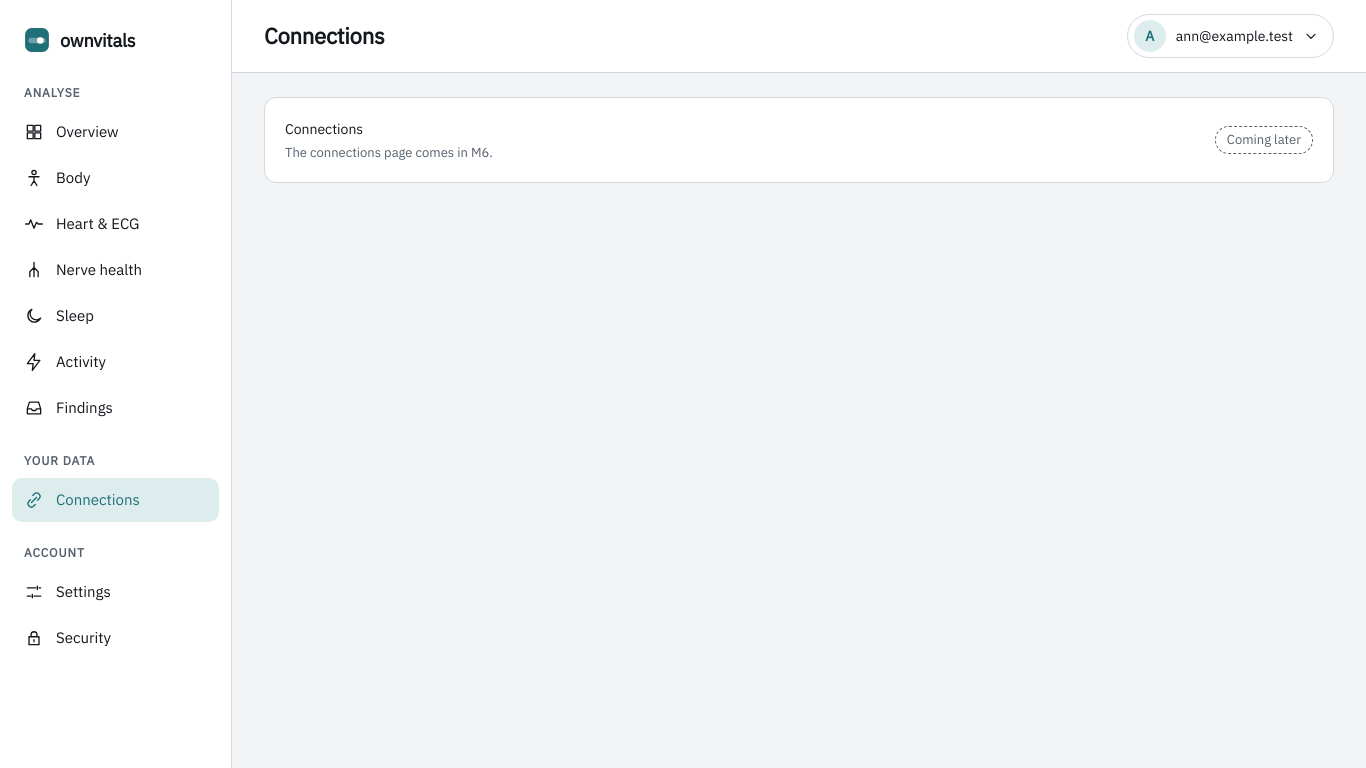
the app frame › names the document after the page, and puts the product name back when it leaves
Expected: the heading "Connections" is shown, [264, 21, 384, 50]
Click the link "Sleep". click: (59, 316)
box: [24, 306, 94, 326]
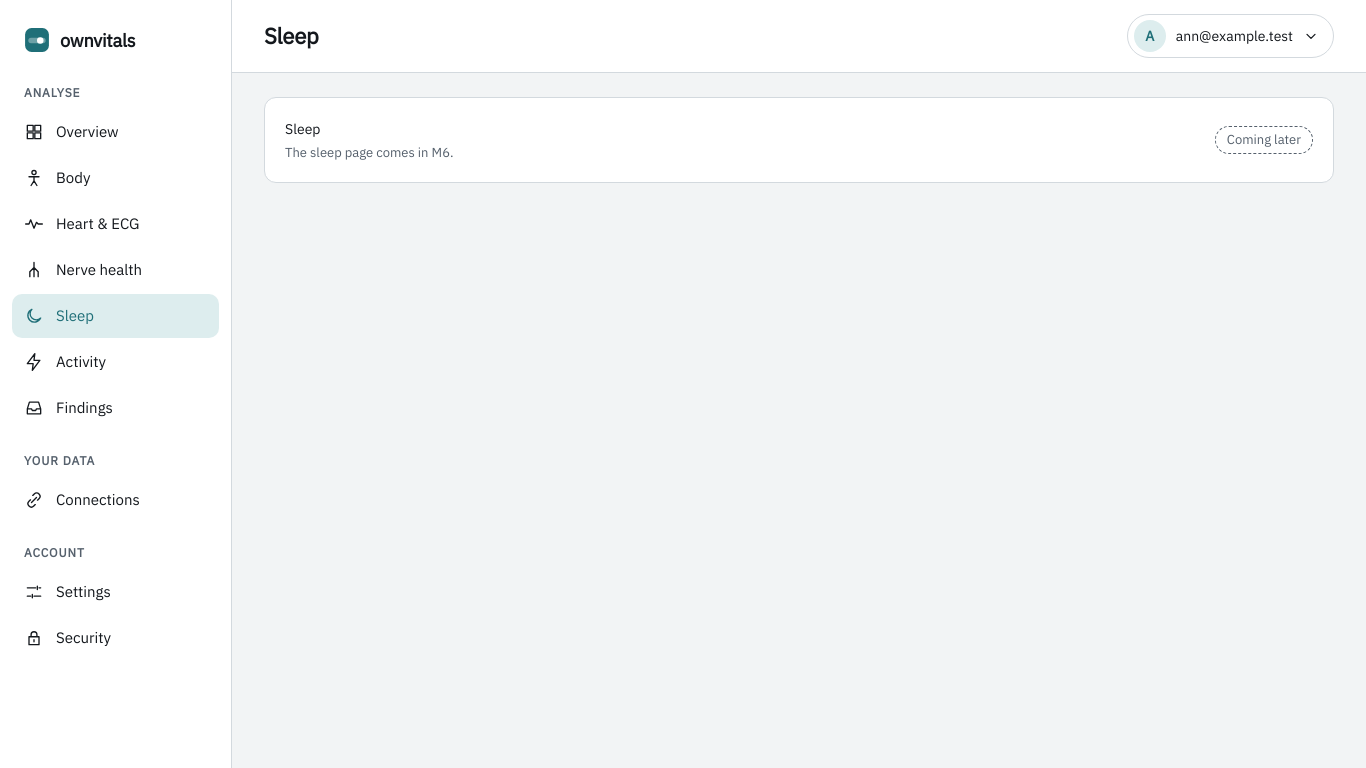
Expected: the heading "Sleep" is shown, [264, 21, 319, 50]
